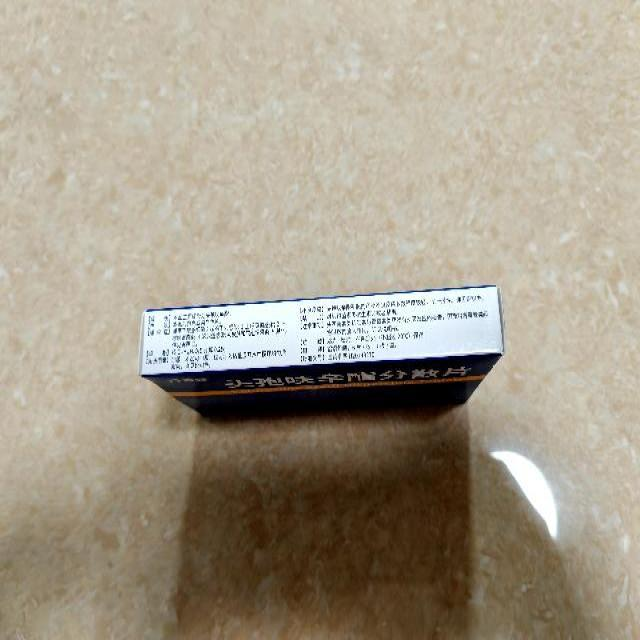box: (139, 284, 506, 416)
